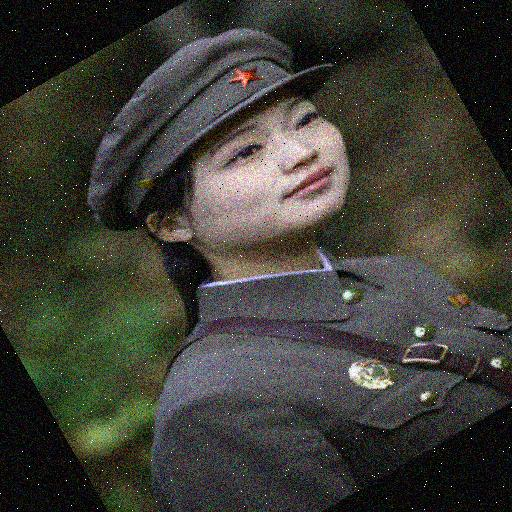north army: (84, 52, 511, 512)
